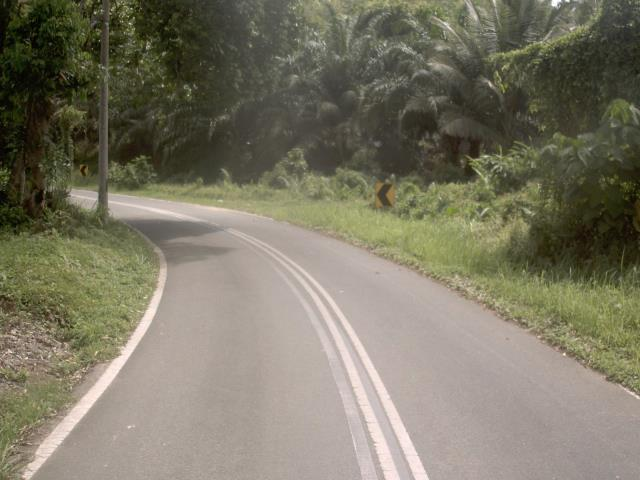traffic_sign: (367, 171, 401, 218)
